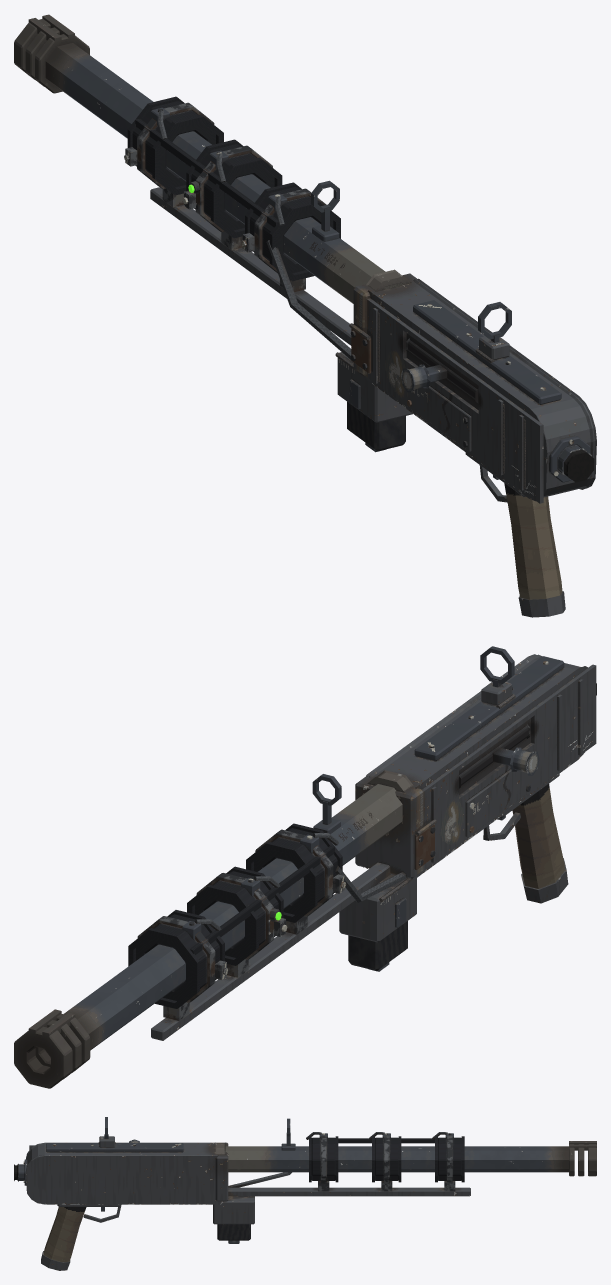
File: sightline.glb
3 views of the same model, one above another, from view 1: azimuth 30°, elevation 25°; view 2: azimuth 150°, elevation 25°; view 3: azimuth 270°, elevation 25° (orthographic). The views are drawn at different scales.
Visible parts, largest first — view 1: Body, Handle; view 2: Body, Handle; view 3: Body.
Part boxes in pixels (x1,y1,x2,y2): Body: [14, 14, 596, 617]; Handle: [401, 338, 478, 403]; Body: [14, 646, 596, 1088]; Handle: [459, 724, 539, 788]; Body: [14, 1117, 596, 1270].
Size of the model in its own units: 0.0868 by 0.2359 by 0.832.
Materials: 1 (1 with a texture image).
